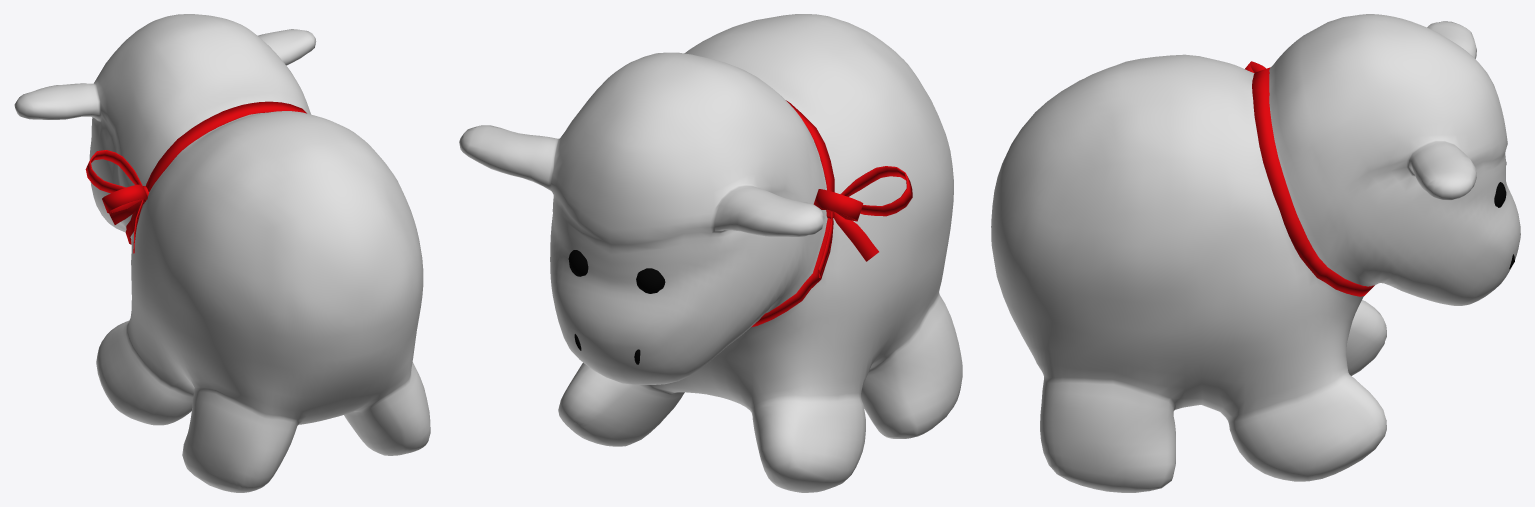
Rendered from Sheep.fbx.
3 views of the same model, side by side, from view 1: azimuth 30°, elevation 25°; view 2: azimuth 150°, elevation 25°; view 3: azimuth 270°, elevation 25° (orthographic). The views are drawn at different scales.
Parts seen in each view (by area): view 1: Sheep Retopologised, Ribbon, Ribbon circles; view 2: Sheep Retopologised, Ribbon circles, Ribbon, Ribbon thingys, Eyes; view 3: Sheep Retopologised, Ribbon.
Boxes of the visible parts, x1,y1,x2,y2 form: Sheep Retopologised: [14, 14, 430, 492]; Ribbon: [125, 101, 306, 244]; Ribbon circles: [85, 150, 147, 213]; Sheep Retopologised: [459, 14, 962, 492]; Ribbon circles: [813, 166, 912, 221]; Ribbon: [751, 100, 834, 327]; Ribbon thingys: [818, 212, 878, 277]; Eyes: [568, 250, 665, 293]; Sheep Retopologised: [991, 14, 1520, 492]; Ribbon: [1252, 67, 1374, 296].
Bounding box in the file's own units: 139 × 162 × 185.
